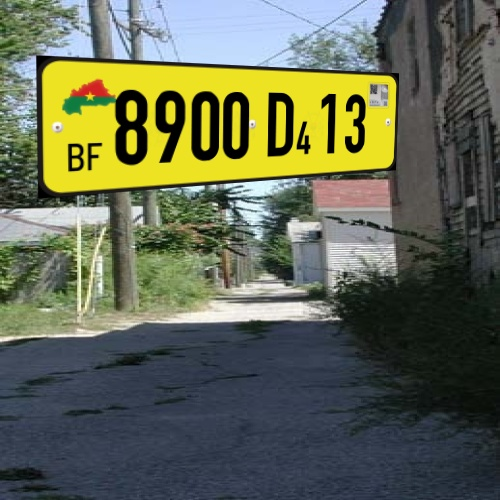plate: (31, 47, 407, 199)
